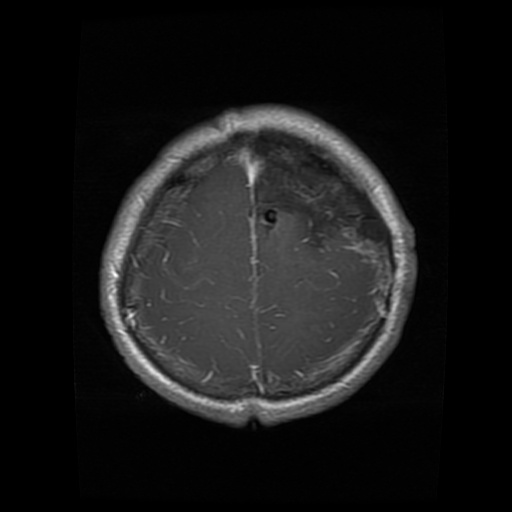glioma: (236, 136, 385, 247)
